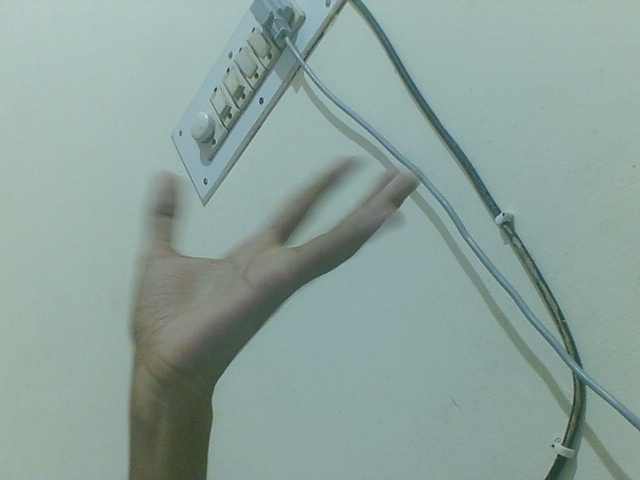hand: (127, 150, 431, 384)
